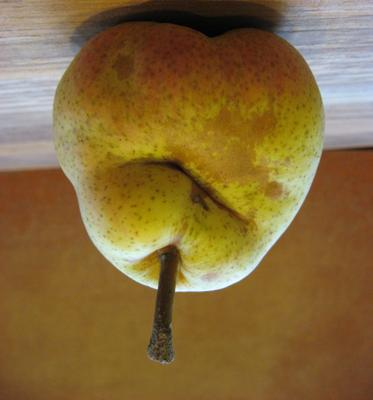pear: (0, 0, 373, 400)
